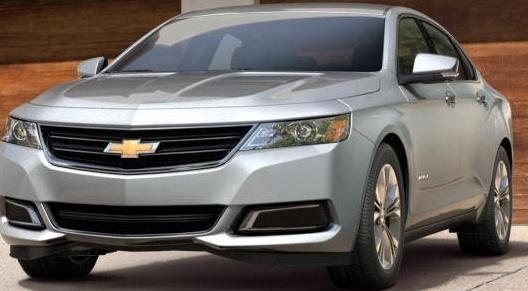Cars: (1, 6, 513, 289)
